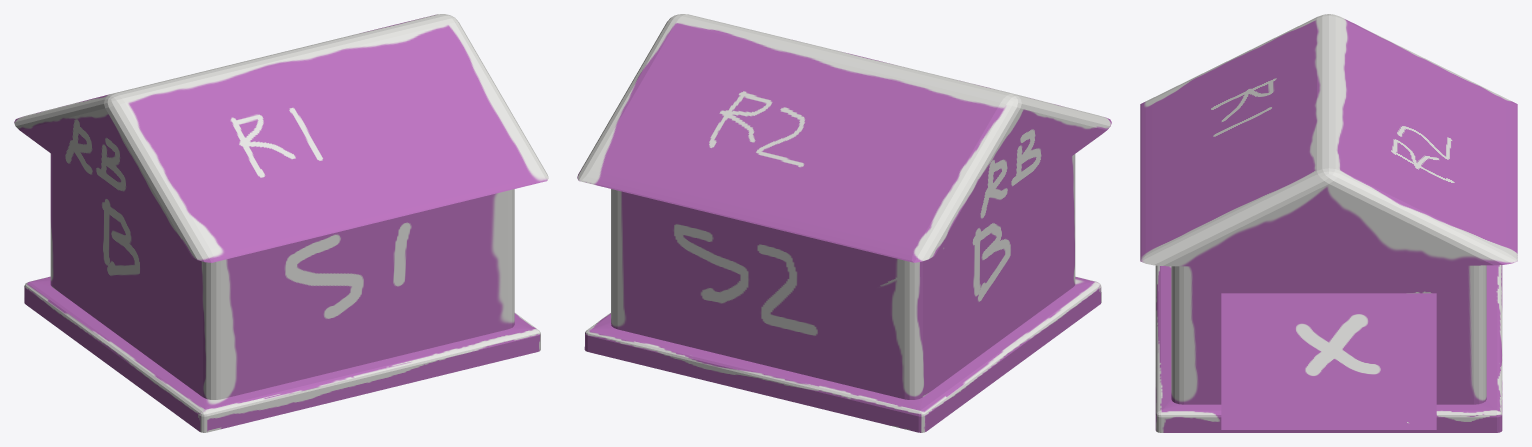
File: NewDepot.fbx
3 renders of one model, left to right at view 1: azimuth 30°, elevation 25°; view 2: azimuth 150°, elevation 25°; view 3: azimuth 270°, elevation 25°, orthographic. The views are drawn at different scales.
Visible parts, largest first — view 1: Cube.005; view 2: Cube.005; view 3: Cube.005.
Part boxes in pixels (left/top/right/bottom): Cube.005: left=14, top=14, right=548, bottom=432; Cube.005: left=577, top=14, right=1111, bottom=432; Cube.005: left=1140, top=14, right=1517, bottom=432.
Size of the model in its own units: 454 by 334 by 438.
Materials: 1 (1 with a texture image).
